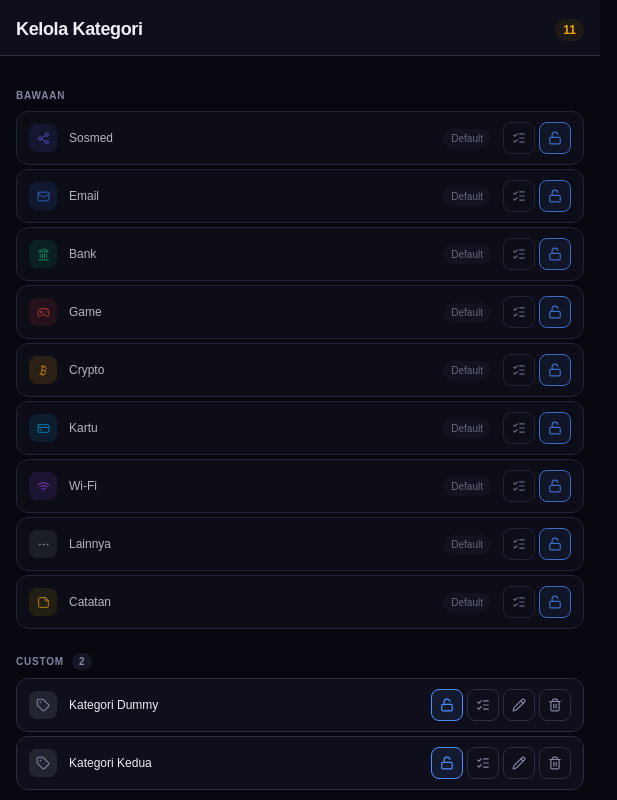
CategoryManager — Lock/Unlock Kategori (v1.10.0) › lock kategori satu tidak memengaruhi kategori lain (independen per-ID)
The image size is (617, 800).
Click the button named "Kunci kategori Kategori Dummy": (447, 705) [431, 689, 463, 721]
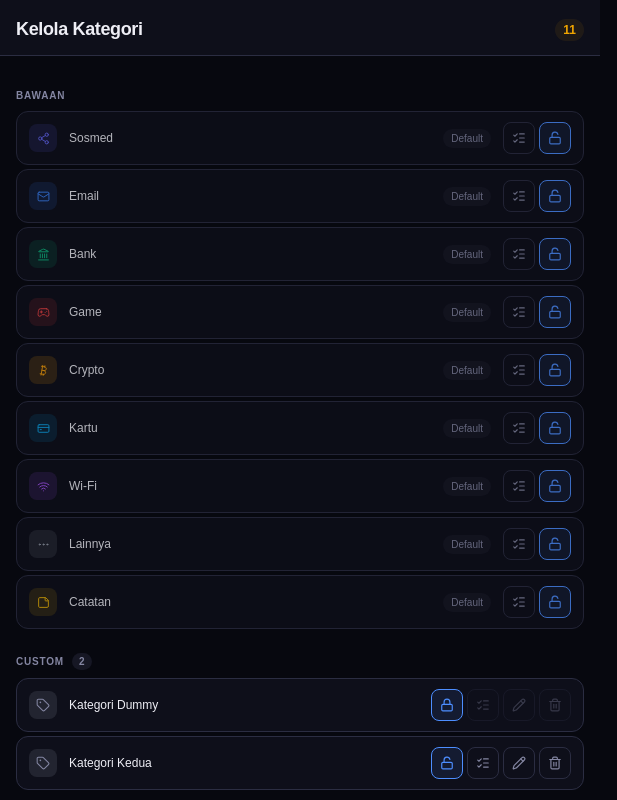
Check: the button named "Edit Kategori Kedua" is enabled, box [503, 747, 535, 779]
Check: the button named "Edit Kategori Dummy" is disabled, box [503, 689, 535, 721]
